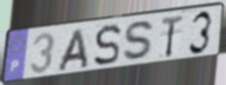3: (186, 9, 218, 56), (30, 31, 58, 77)
A: (56, 27, 91, 73)
S: (121, 19, 157, 63), (92, 23, 123, 68)
T: (160, 13, 185, 60)
